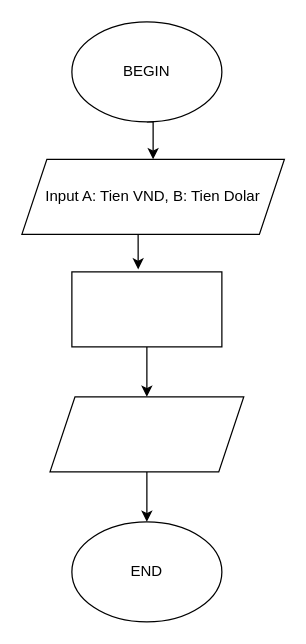
The diagram is 306 pixels wide and 644 high, and some of its shapes have lost their labels. The box of each missing label's shape, as (x1, y1, x2, y2) in pixels:
A=B*23000: (71, 271, 222, 347)
Display "A": (49, 396, 244, 472)
